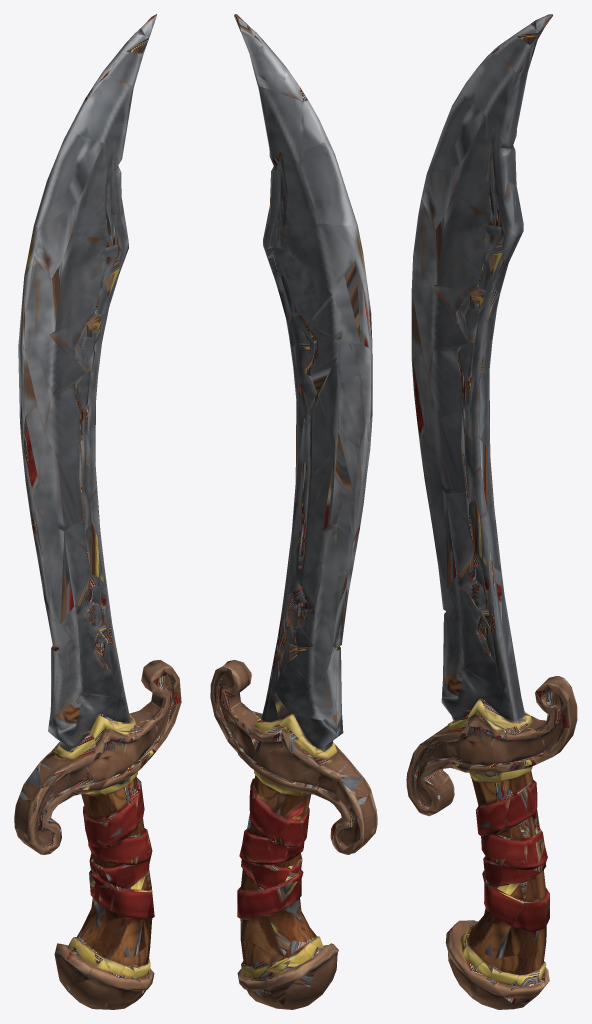
The model's file is scimitar.glb.
3 renders of one model, left to right at view 1: azimuth 30°, elevation 25°; view 2: azimuth 150°, elevation 25°; view 3: azimuth 330°, elevation 25°, orthographic. The views are drawn at different scales.
Visible parts, largest first — view 1: Mesh_0; view 2: Mesh_0; view 3: Mesh_0.
Boxes of the visible parts, left/top/right/bottom form: Mesh_0: left=14, top=14, right=181, bottom=1009; Mesh_0: left=210, top=14, right=377, bottom=1009; Mesh_0: left=406, top=14, right=577, bottom=1009.
Size of the model in its own units: 0.1612 by 0.95 by 0.0772.
1 material, 1 textured.
